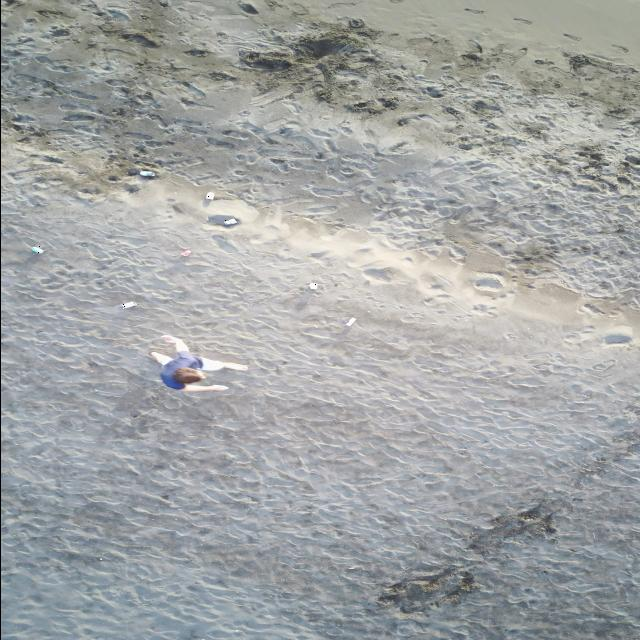Garbage: (208, 216, 239, 226), (348, 19, 363, 27), (223, 216, 238, 224), (120, 300, 136, 307), (344, 316, 355, 326), (140, 169, 155, 176), (181, 247, 191, 256), (32, 244, 43, 252), (204, 192, 213, 200), (307, 281, 316, 288)
